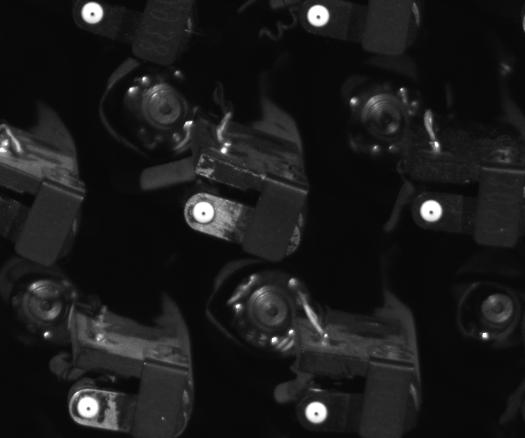fiber: (414, 192, 448, 230), (186, 197, 223, 227), (299, 2, 338, 30), (301, 397, 333, 429), (74, 394, 103, 424), (78, 2, 110, 27)
